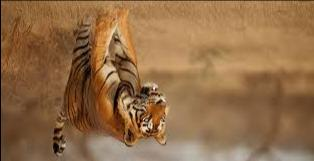Non_Gorille: (33, 13, 179, 160)
